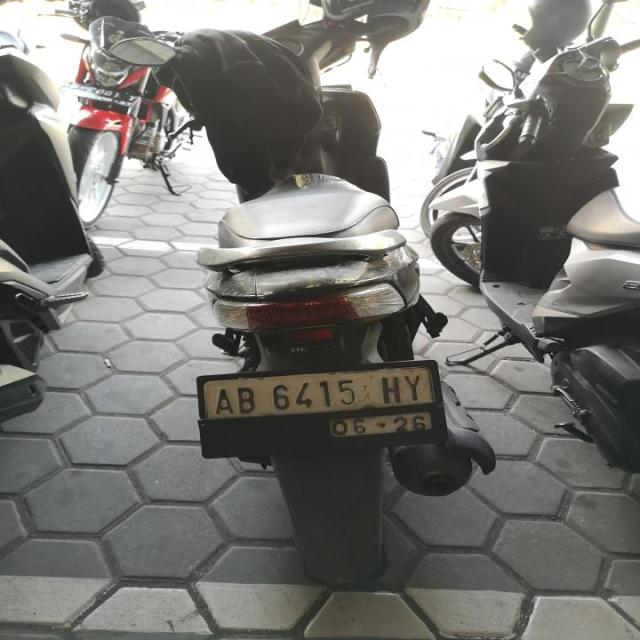License Plate: (200, 364, 438, 442), (57, 80, 140, 108)
